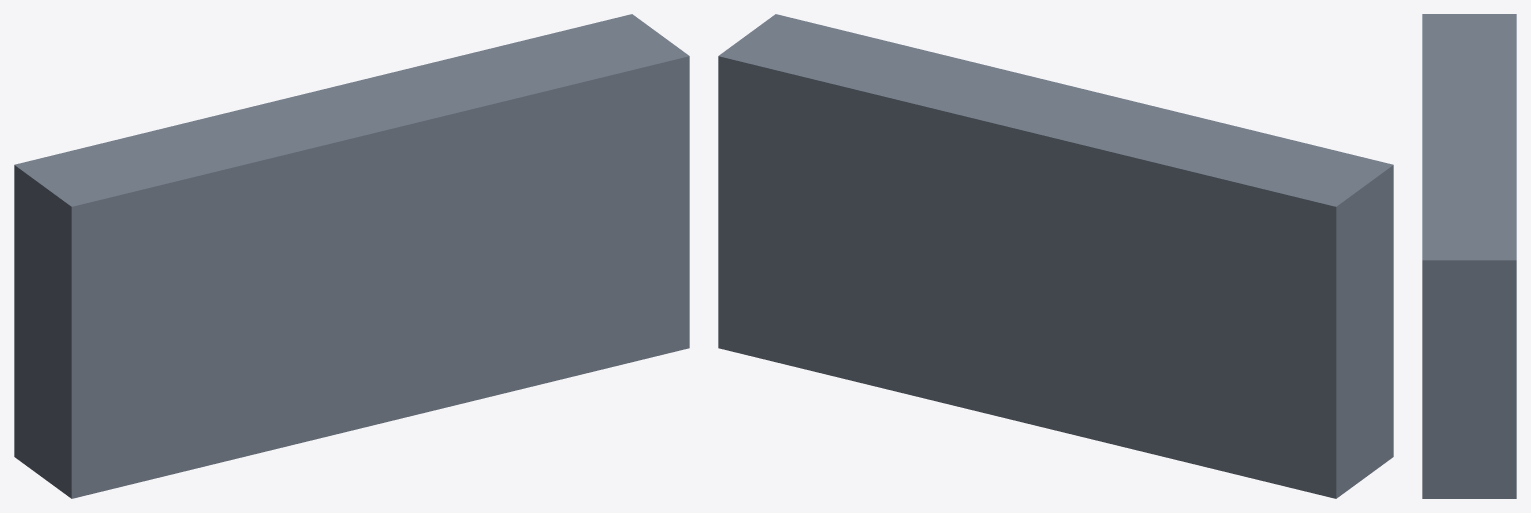
Rendered from network_switch.glb.
3 views of the same model, side by side, from view 1: azimuth 30°, elevation 25°; view 2: azimuth 150°, elevation 25°; view 3: azimuth 270°, elevation 25° (orthographic). The views are drawn at different scales.
Parts seen in each view (by area): view 1: body_0; view 2: body_0; view 3: body_0.
Part boxes in pixels (<box>): body_0: <box>14,14,689,498</box>; body_0: <box>718,14,1393,498</box>; body_0: <box>1422,14,1516,498</box>.
Size of the model in its own units: 0.62 by 0.29 by 0.1.
